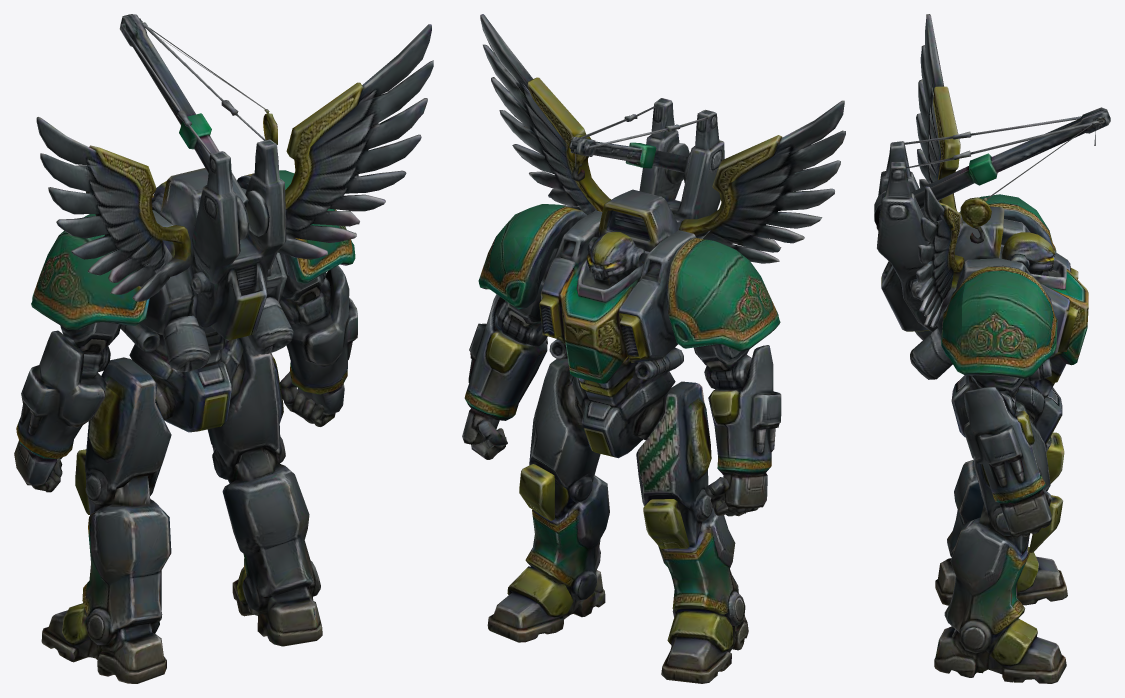
File: packer.glb
The picture shows the model from 3 angles, left to right: view 1: azimuth 30°, elevation 25°; view 2: azimuth 150°, elevation 25°; view 3: azimuth 270°, elevation 25°; orthographic projection. The views are drawn at different scales.
Parts seen in each view (by area): view 1: Body, Trim; view 2: Body, Trim; view 3: Body, Trim.
Boxes of the visible parts, <box> form: Body: <box>14,14,433,683</box>; Trim: <box>31,113,355,458</box>; Body: <box>462,14,845,683</box>; Trim: <box>465,142,776,468</box>; Body: <box>874,14,1110,683</box>; Trim: <box>946,153,1087,492</box>.
Size of the model in its own units: 5.51 by 7.98 by 3.2.
Materials: 2 (2 with a texture image).
